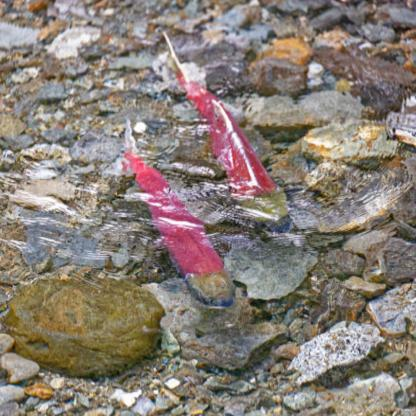sockeye: (159, 22, 292, 224), (118, 126, 226, 305)
